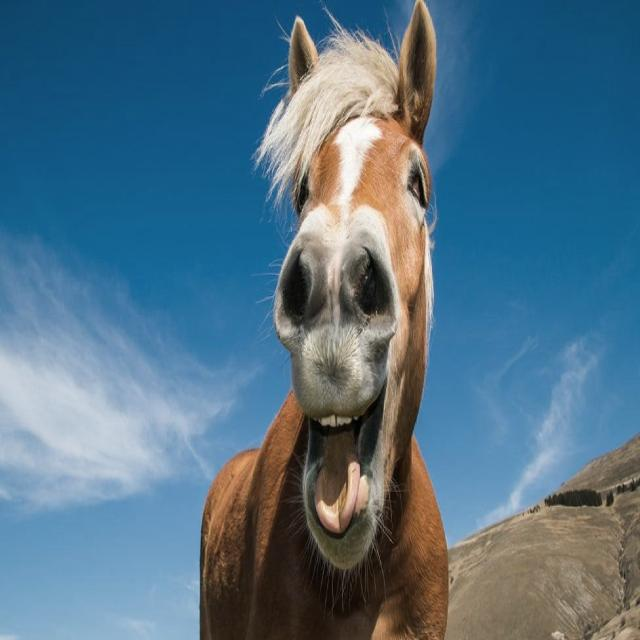horse: (201, 0, 449, 639)
